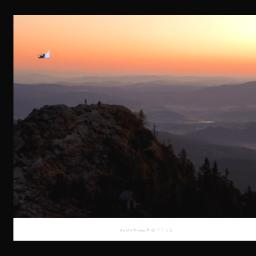Crow: (31, 16, 49, 59)
